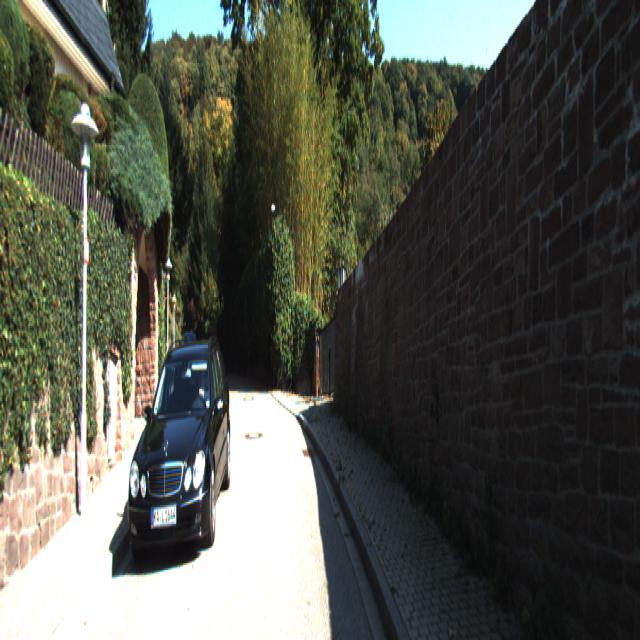Car: (125, 331, 233, 575), (180, 328, 200, 382)
